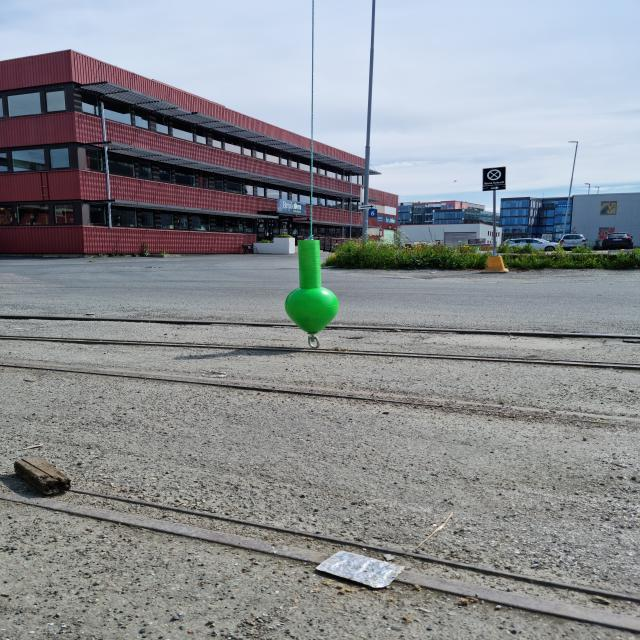green: (284, 238, 340, 334)
